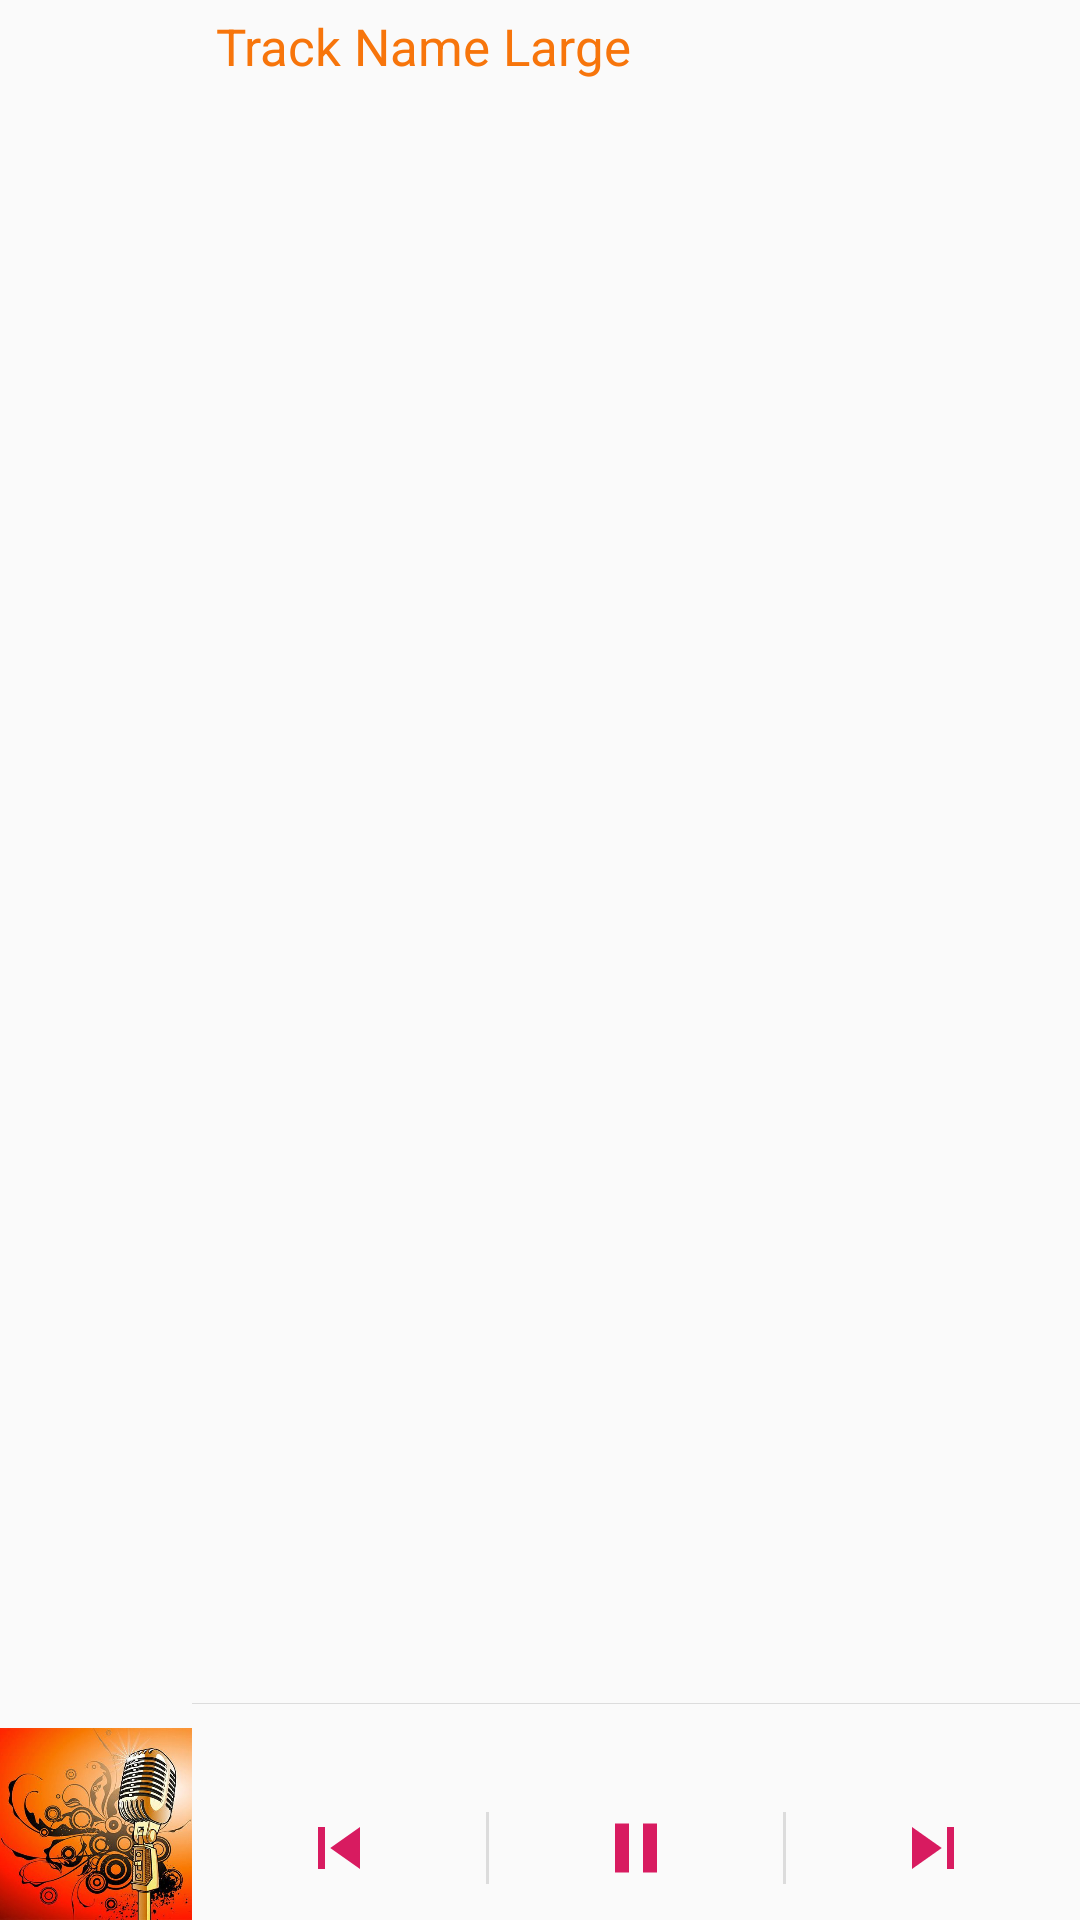

Point at icon controls on the screen. Image size 1080px×1920px, points as (x,y).
music: (96,1824)
pause: (636,1848)
skip next: (933,1848)
skip previous: (339,1848)
